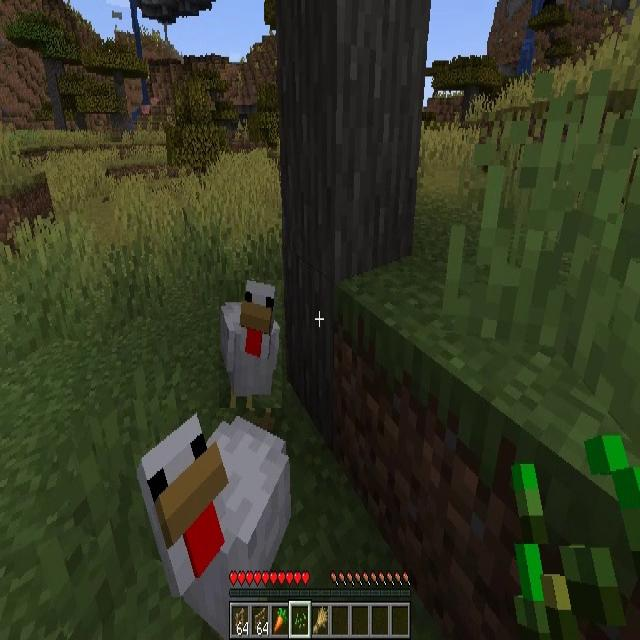duck: (138, 412, 291, 569), (219, 280, 282, 408)
